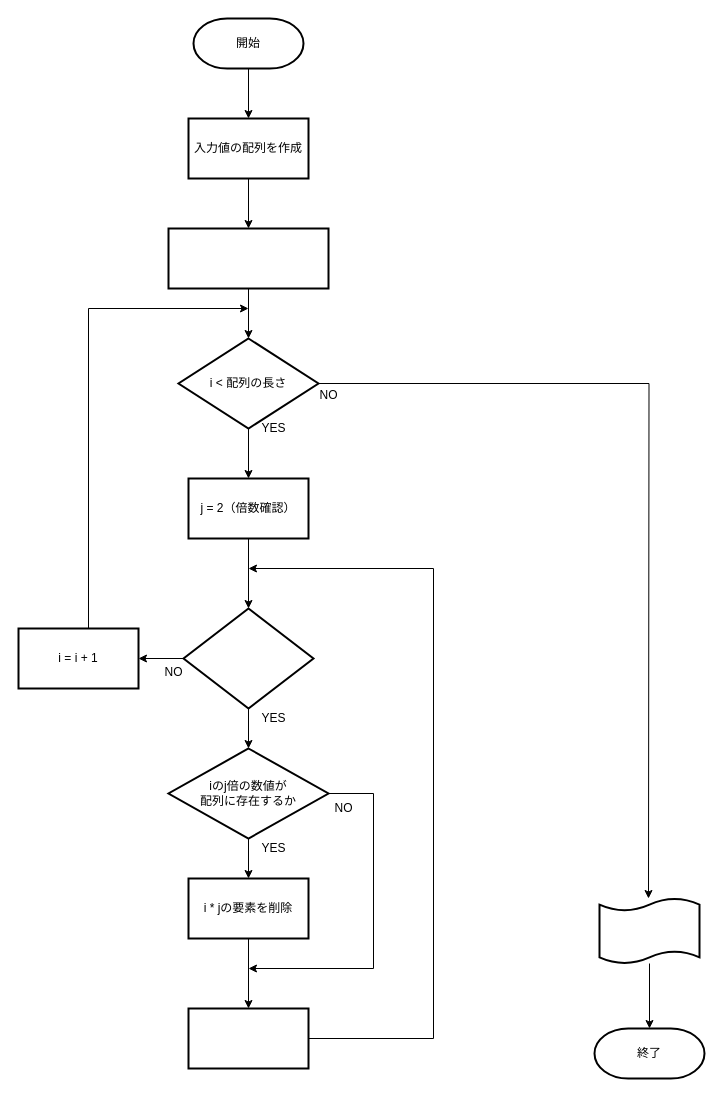
Image size: 722x1096. Some labels were removed from this diagram. The shapes that lost their labels are listed below. From the top down, each one's box as (x1, y1, x2, y2) in pixels, then its label:
(167, 227, 329, 289): i = 2 （配列インデックス）
(182, 607, 314, 709): j < 配列の長さ
(598, 897, 700, 964): 配列出力
(187, 1007, 309, 1069): j = j +1
